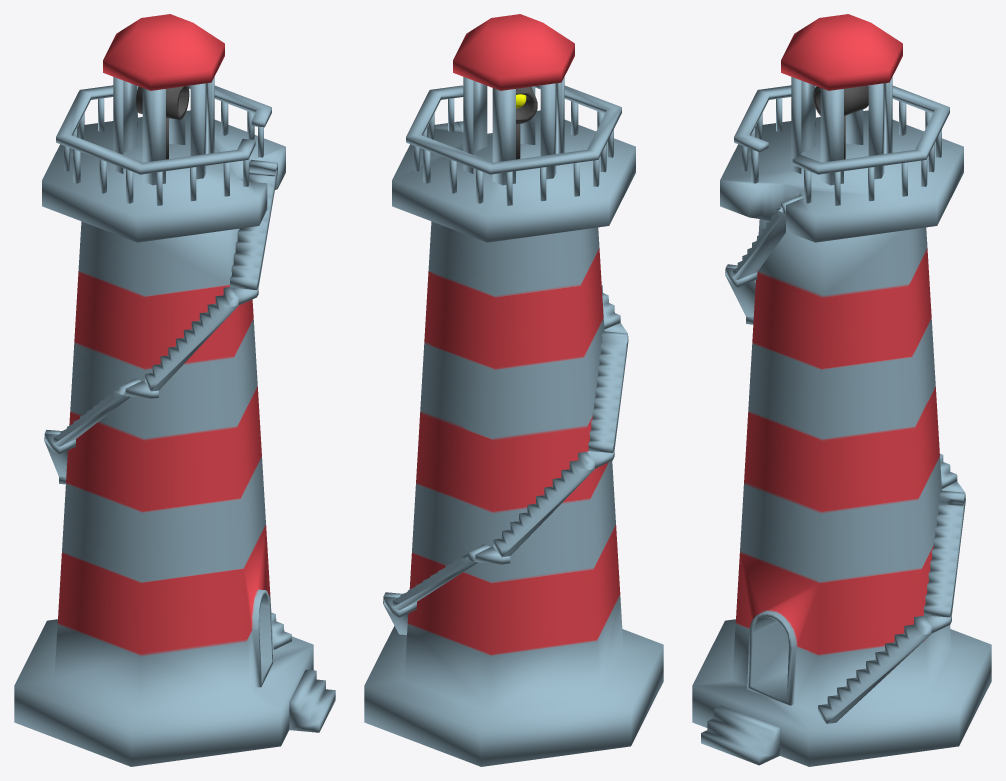
Rendered from Faro.obj.
3 renders of one model, left to right at view 1: azimuth 30°, elevation 25°; view 2: azimuth 150°, elevation 25°; view 3: azimuth 270°, elevation 25°, orthographic.
Visible parts, largest first — view 1: lighthouse; view 2: lighthouse; view 3: lighthouse.
Part boxes in pixels (<box>): lighthouse: <box>14,14,335,766</box>; lighthouse: <box>364,14,663,766</box>; lighthouse: <box>692,14,991,766</box>.
Bounding box in the file's own units: 6.38 × 15.44 × 6.21.
